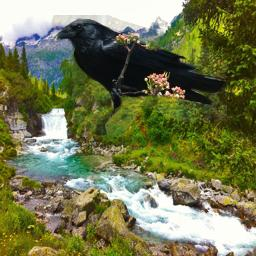Crow: (48, 15, 227, 135)
